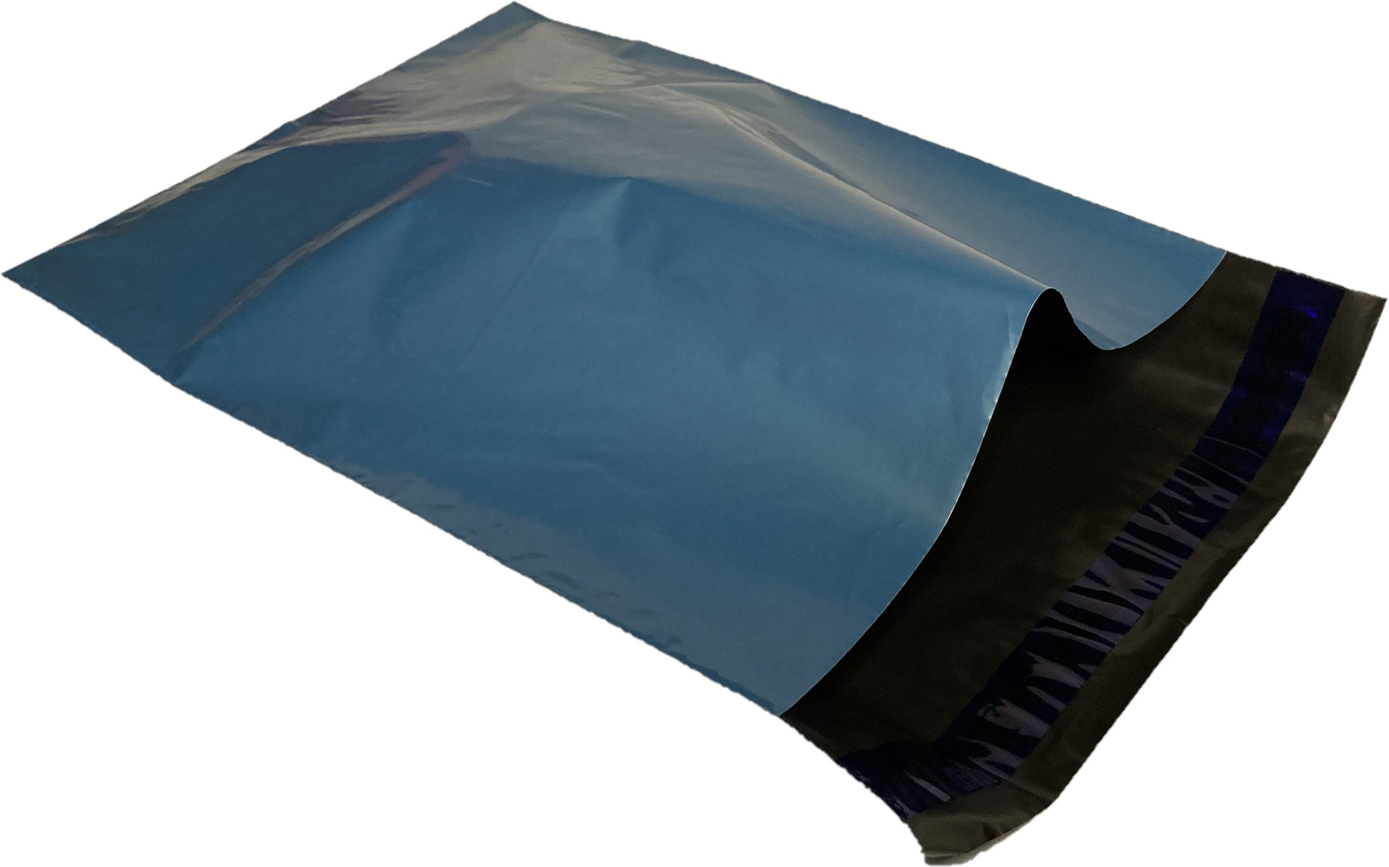塑料袋: (10, 6, 1382, 863)
